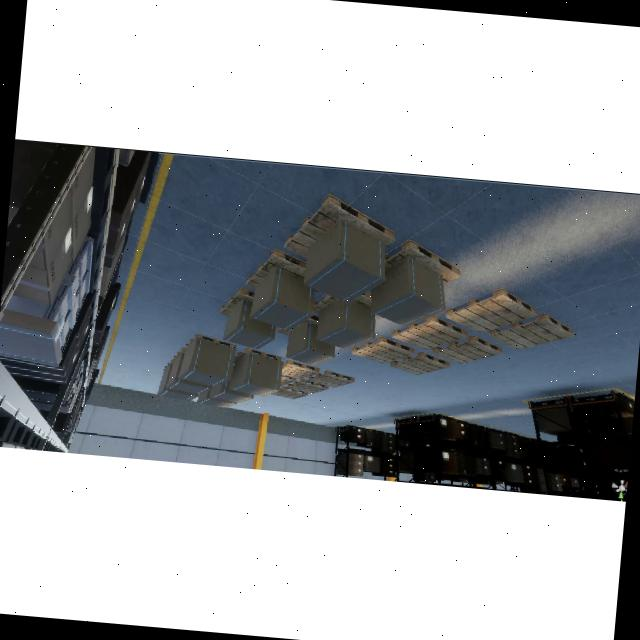wooden_pallet: (283, 193, 395, 259), (445, 288, 536, 334), (384, 240, 461, 285), (489, 312, 573, 350), (391, 315, 467, 350), (244, 248, 307, 288), (431, 334, 502, 365), (351, 337, 415, 364), (390, 352, 450, 376), (183, 333, 238, 351), (219, 289, 253, 316), (307, 370, 354, 388), (280, 359, 319, 380), (233, 348, 281, 362), (287, 379, 328, 394), (270, 386, 308, 400), (279, 374, 296, 386)
